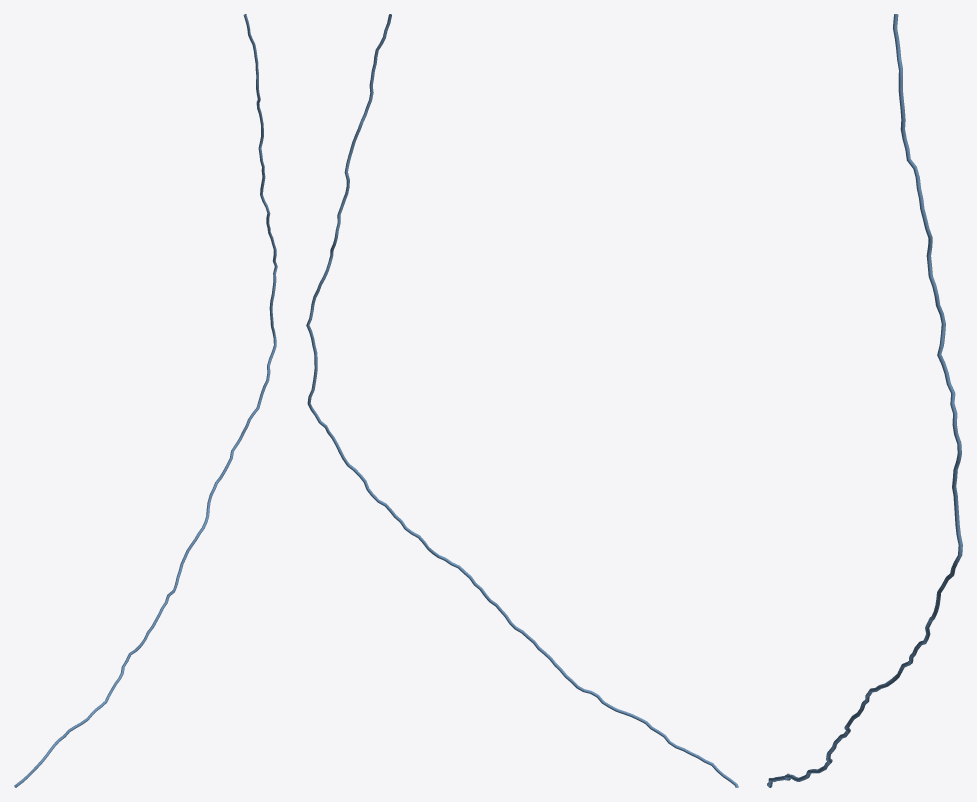
File: sweep123.fbx
3 renders of one model, left to right at view 1: azimuth 30°, elevation 25°; view 2: azimuth 150°, elevation 25°; view 3: azimuth 270°, elevation 25°, orthographic. The views are drawn at different scales.
Visible parts, largest first — view 1: sweep123; view 2: sweep123; view 3: sweep123.
Boxes of the visible parts, x1,y1,x2,y2 form: sweep123: [14, 14, 277, 787]; sweep123: [306, 14, 738, 787]; sweep123: [767, 14, 962, 787].
Bounding box in the file's own units: 2.48 × 4.86 × 0.894.
